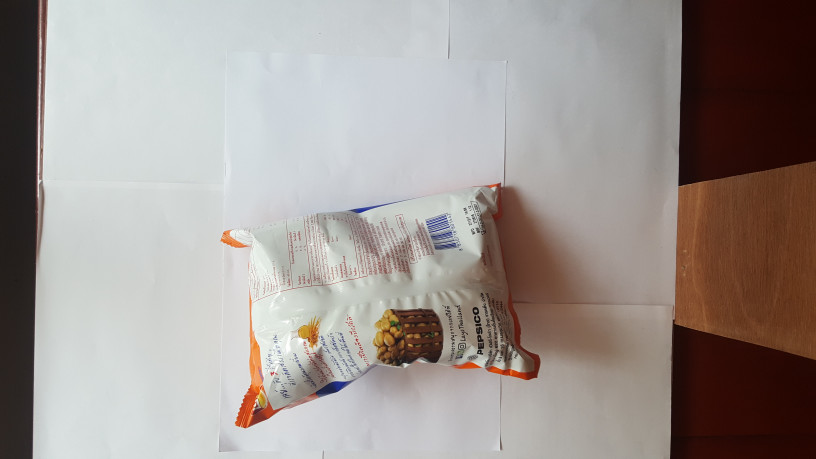lays-bbq: (219, 179, 542, 429)
